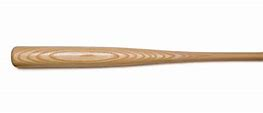bat: (10, 44, 263, 70)
